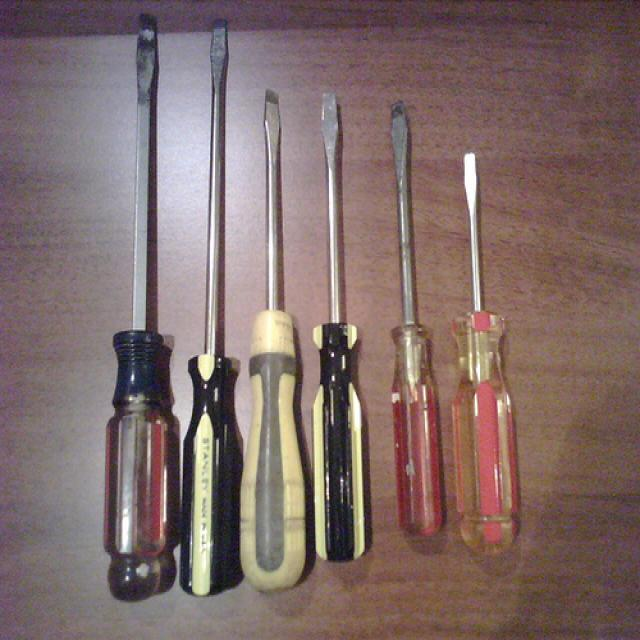screwdriver: (99, 4, 178, 604), (241, 82, 311, 597), (183, 11, 241, 604), (380, 95, 448, 542), (452, 147, 524, 563), (314, 88, 372, 566)
